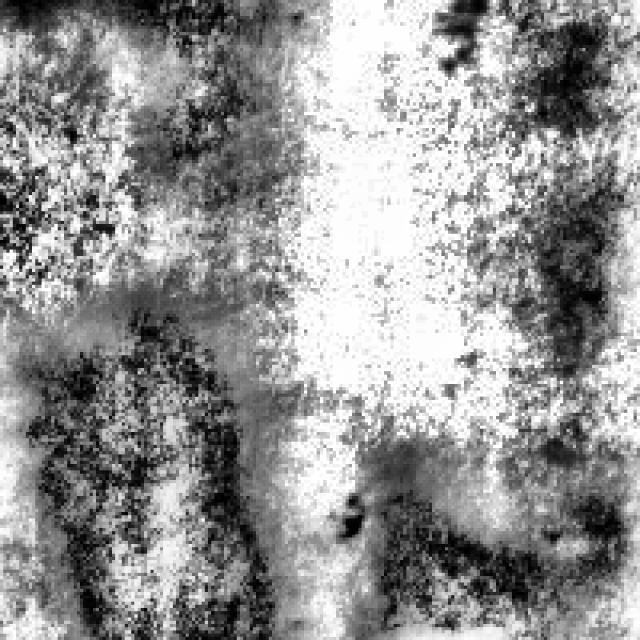Scratches: (19, 288, 282, 637), (358, 448, 621, 634), (77, 0, 266, 170)
